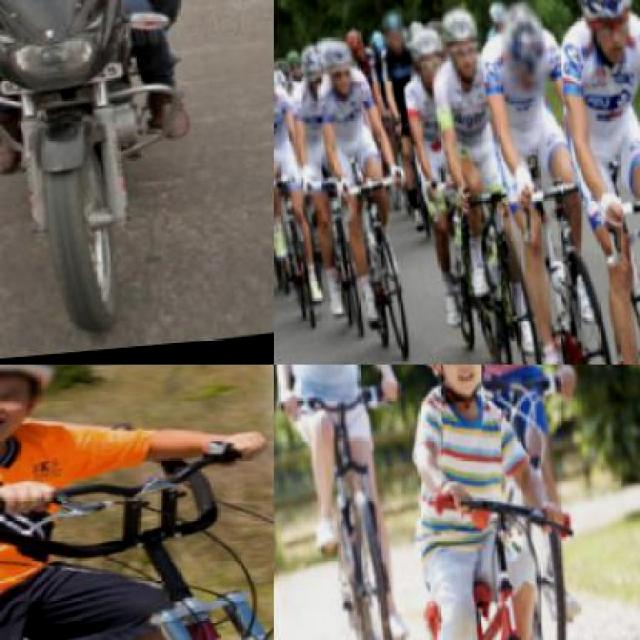With Helmet: (494, 0, 552, 111), (566, 0, 638, 78), (402, 364, 496, 414), (430, 9, 484, 94), (0, 364, 62, 424), (316, 39, 358, 110), (402, 28, 448, 92), (379, 13, 408, 67), (297, 44, 325, 99)
